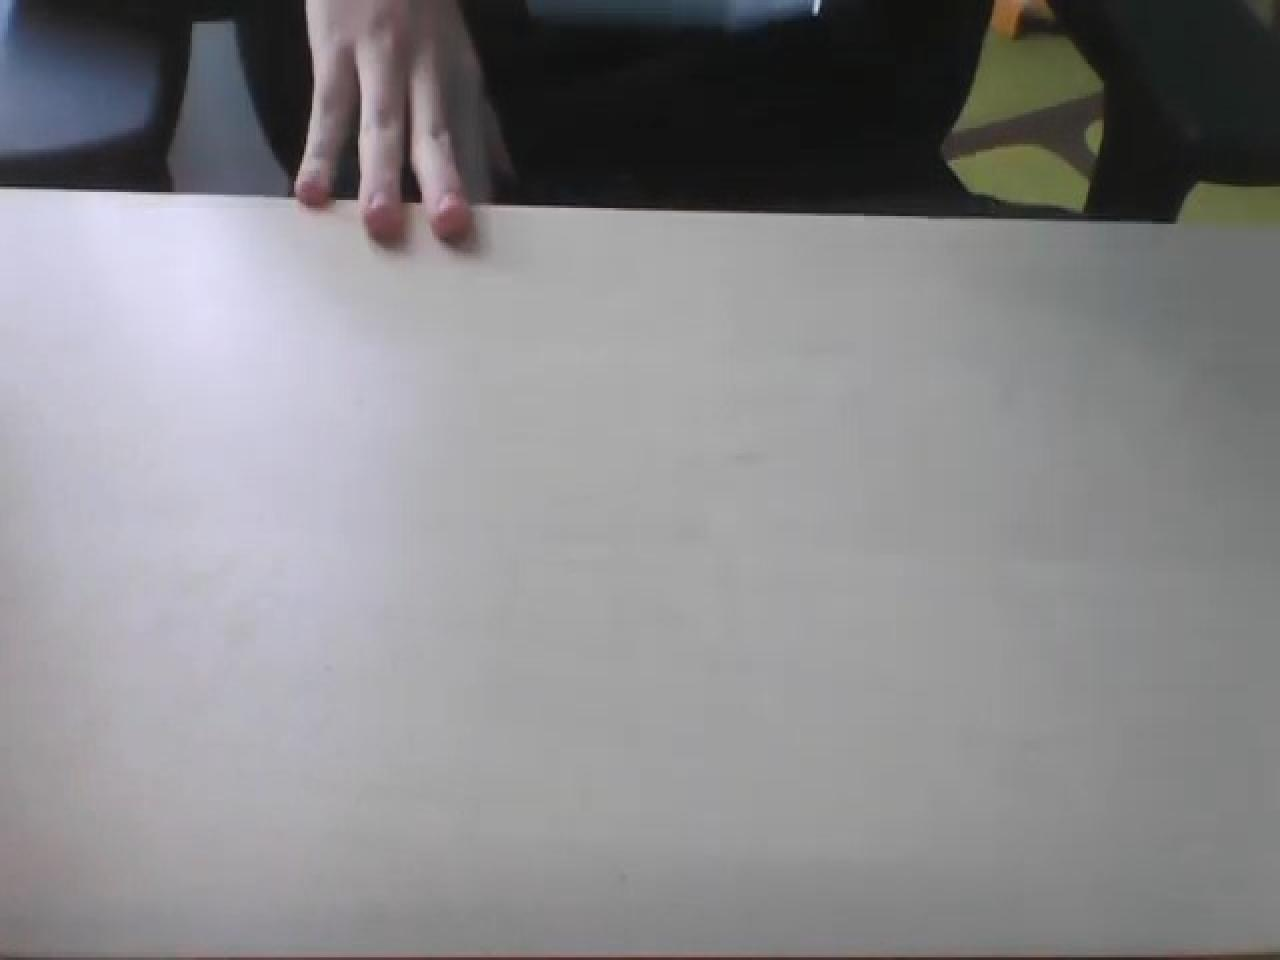100leva: (2, 178, 1276, 952), (2, 0, 1274, 240)
